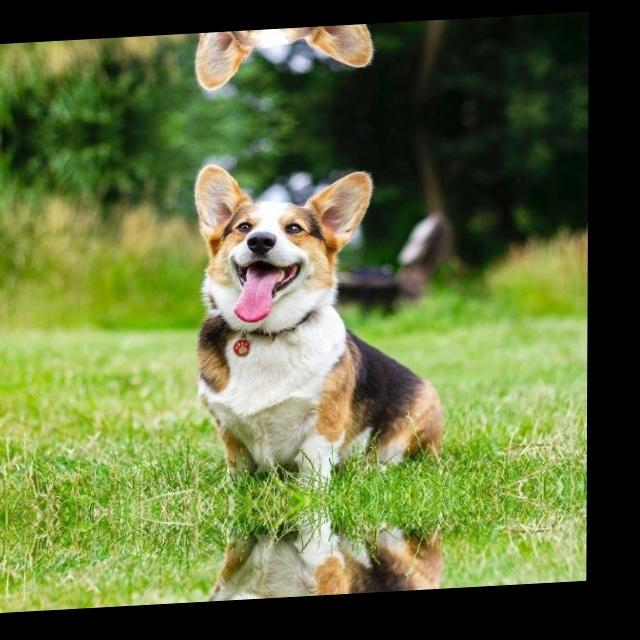dog: (180, 142, 451, 493), (179, 508, 449, 604), (181, 19, 451, 100)
